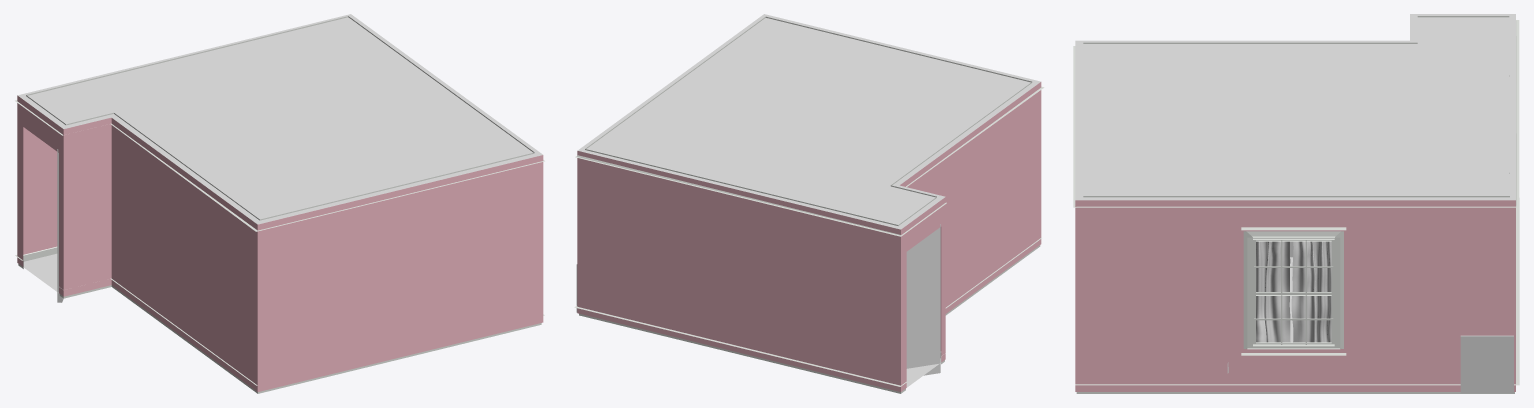
The model's file is TempRoom.fbx.
The picture shows the model from 3 angles, left to right: view 1: azimuth 30°, elevation 25°; view 2: azimuth 150°, elevation 25°; view 3: azimuth 270°, elevation 25°; orthographic projection. The views are drawn at different scales.
Visible parts, largest first — view 1: Room, CeilingTrim, FloorTrim; view 2: Room, Door, CeilingTrim, FloorTrim; view 3: Room, Curtain, CeilingTrim, Desk, WindowTrim, FloorTrim, WindowFrameBottom, WindowFrameTop.
Part boxes in pixels (x1,y1,x2,y2): Room: [17, 14, 543, 391]; CeilingTrim: [15, 16, 544, 231]; FloorTrim: [15, 246, 544, 393]; Room: [577, 14, 1041, 391]; Door: [906, 224, 940, 375]; CeilingTrim: [575, 16, 1044, 236]; FloorTrim: [574, 237, 1041, 393]; Room: [1075, 14, 1515, 391]; Curtain: [1227, 241, 1331, 373]; CeilingTrim: [1073, 16, 1519, 207]; Desk: [1460, 335, 1513, 393]; WindowTrim: [1241, 227, 1346, 355]; FloorTrim: [1075, 198, 1519, 393]; WindowFrameBottom: [1247, 294, 1340, 349]; WindowFrameTop: [1247, 237, 1340, 294].
Size of the model in its own units: 510 by 256 by 506.
